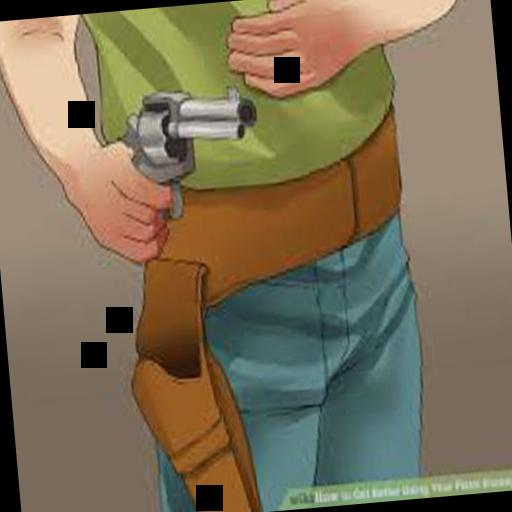Handgun: (106, 74, 267, 224)
